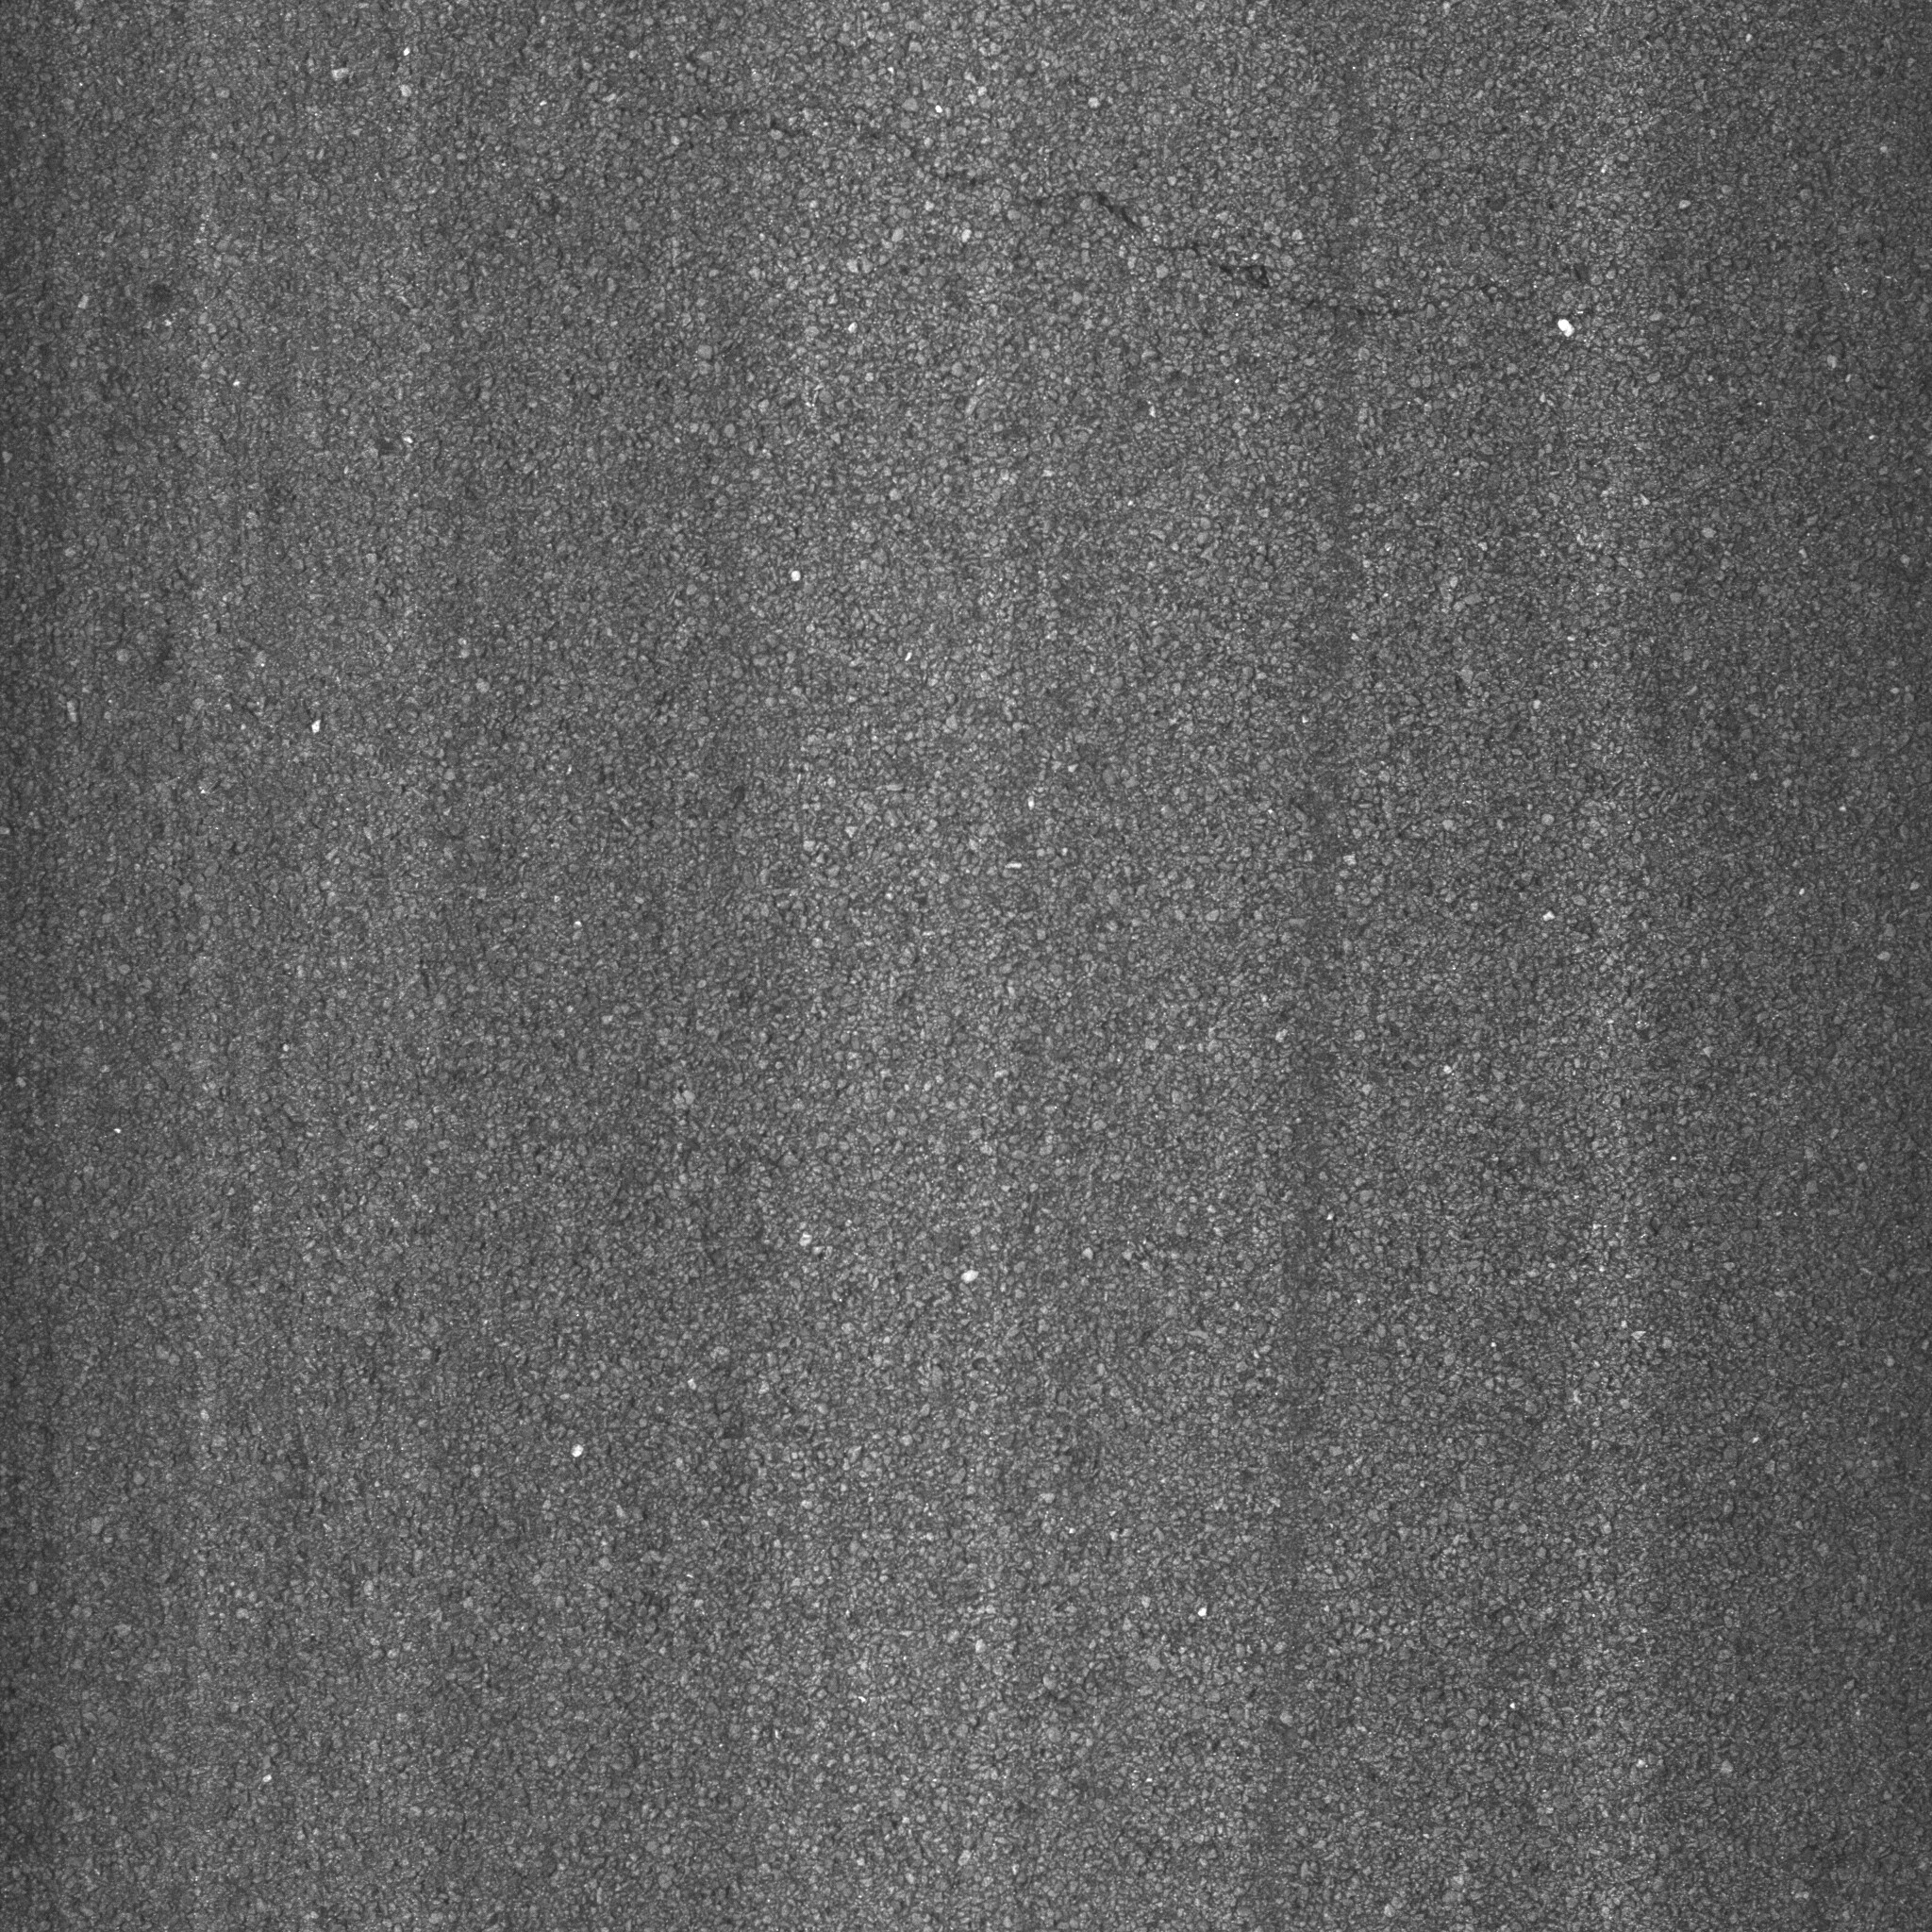transverse: (479, 39, 1759, 405)
